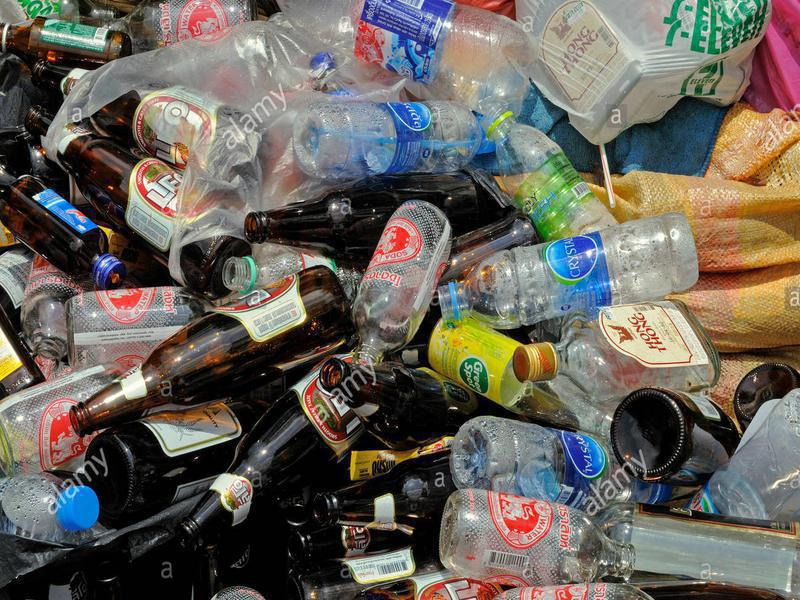bottle: (58, 262, 352, 436), (436, 215, 706, 337), (445, 407, 675, 512), (437, 479, 646, 586), (508, 297, 724, 399), (348, 197, 460, 370), (292, 88, 503, 177)
